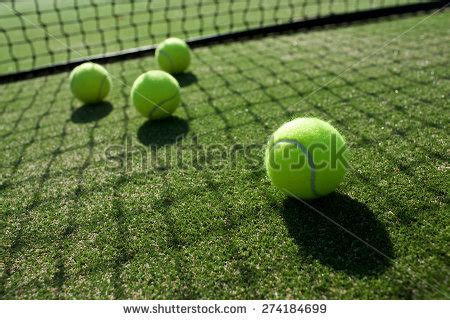tennis_ball: (264, 117, 350, 199), (131, 70, 180, 119), (69, 61, 111, 104), (155, 37, 191, 75)
